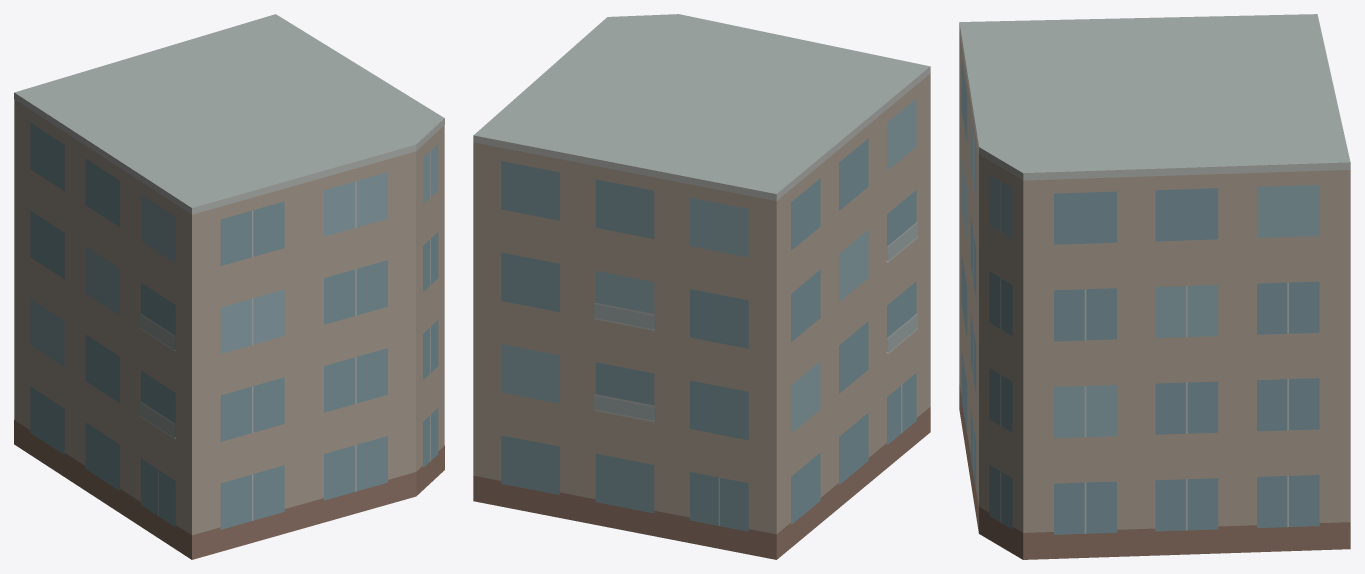
Rendered from survey-upis-32702894.glb.
3 renders of one model, left to right at view 1: azimuth 30°, elevation 25°; view 2: azimuth 150°, elevation 25°; view 3: azimuth 270°, elevation 25°, orthographic. The views are drawn at different scales.
Visible parts, largest first — view 1: survey-upis-32702894.tmp; view 2: survey-upis-32702894.tmp; view 3: survey-upis-32702894.tmp.
Boxes of the visible parts, x1,y1,x2,y2 form: survey-upis-32702894.tmp: [14, 14, 444, 559]; survey-upis-32702894.tmp: [473, 14, 930, 559]; survey-upis-32702894.tmp: [959, 14, 1350, 559].
Size of the model in its own units: 11.31 by 12.8 by 11.75.
